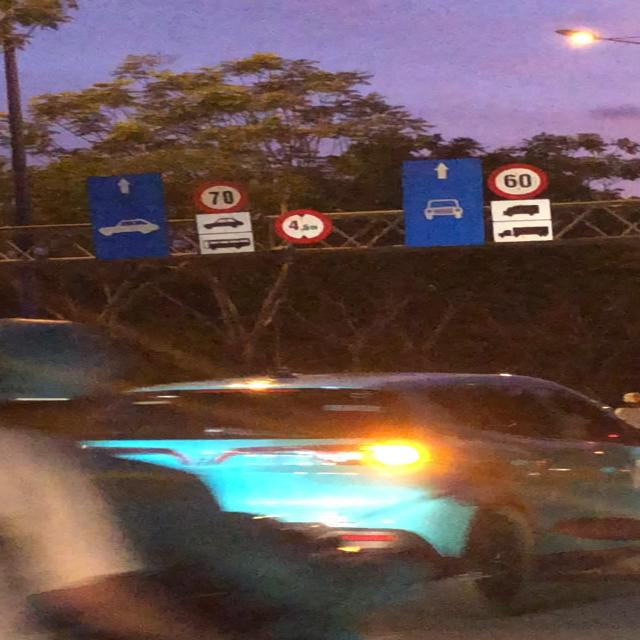Bien bao han che chieu cao: (270, 206, 340, 244)
Bien bao toc do toi da cho phep: (481, 161, 556, 202), (187, 178, 250, 216)
